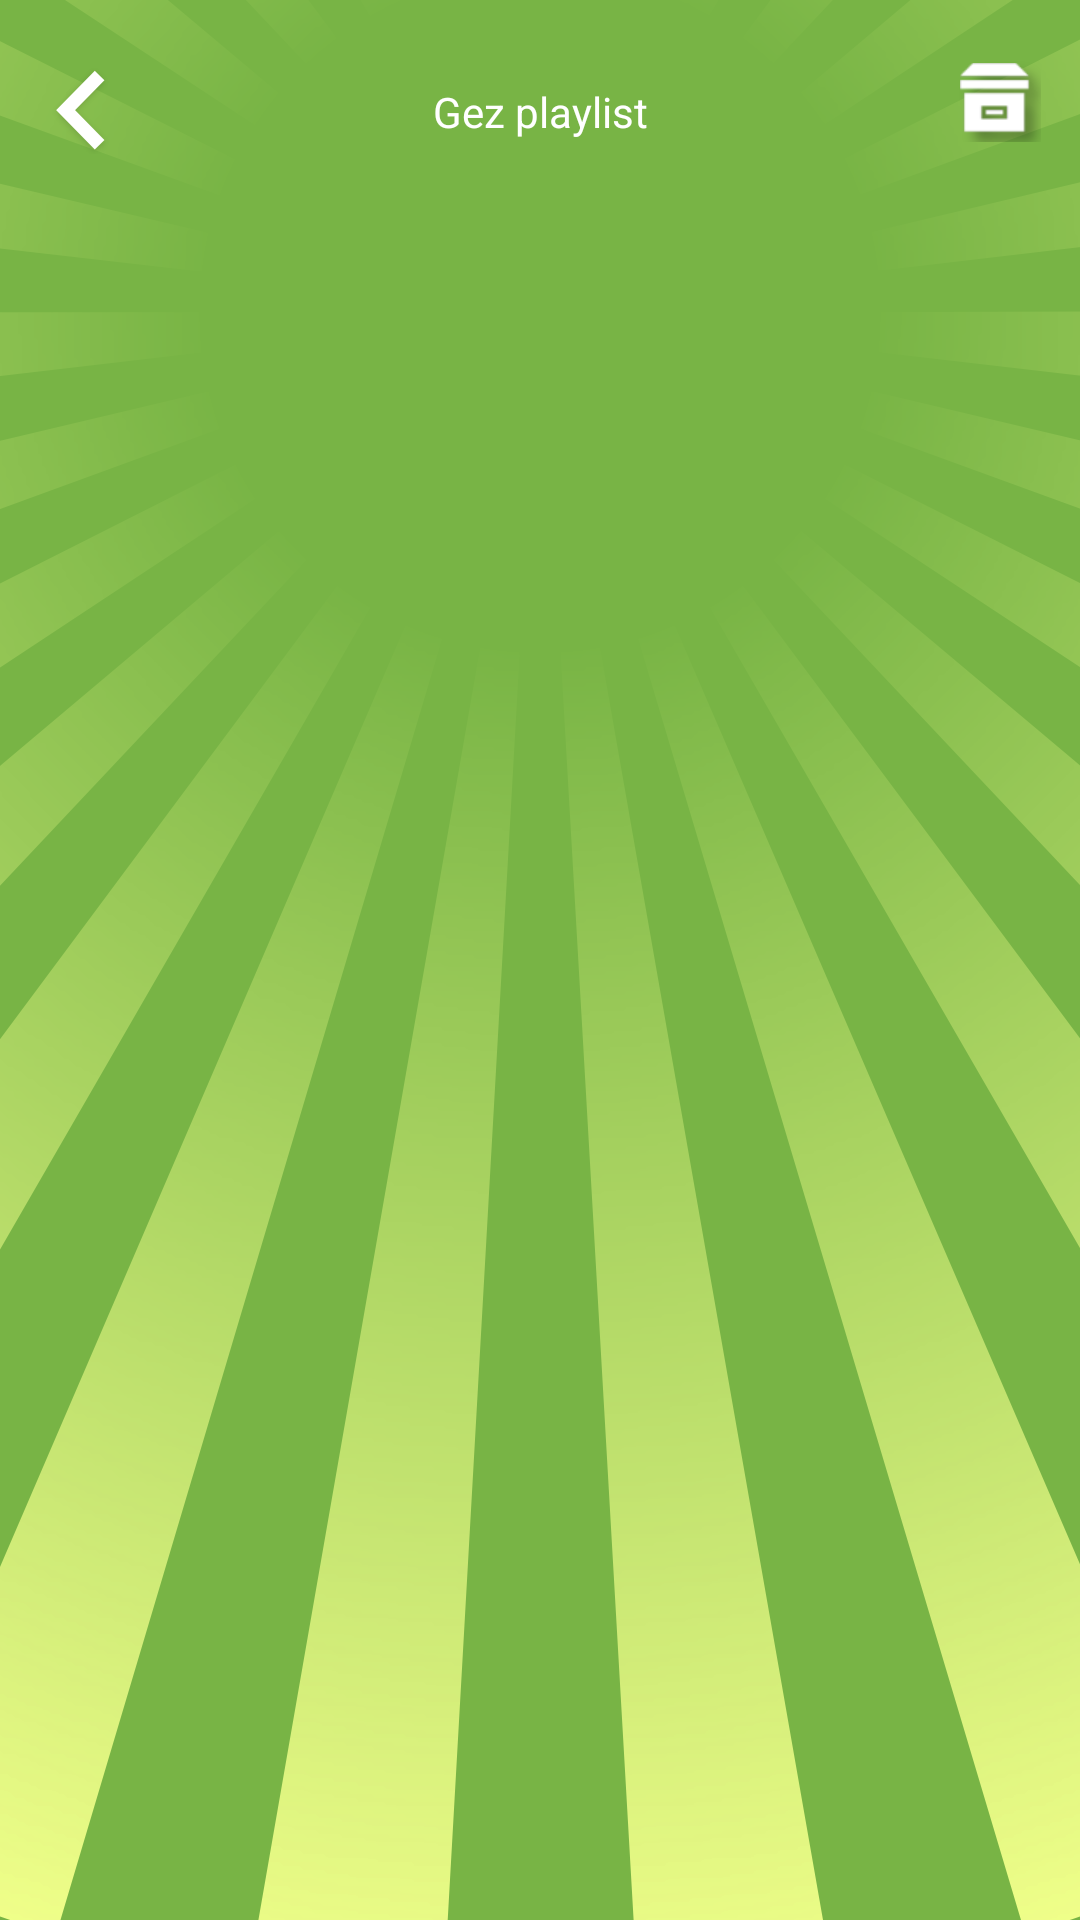

Screen size 1080w x 1920h. Icon name, then its box in pixels as (x1, y1, x2, y2):
archive: (960, 63, 1036, 142)
back: (39, 68, 125, 154)
